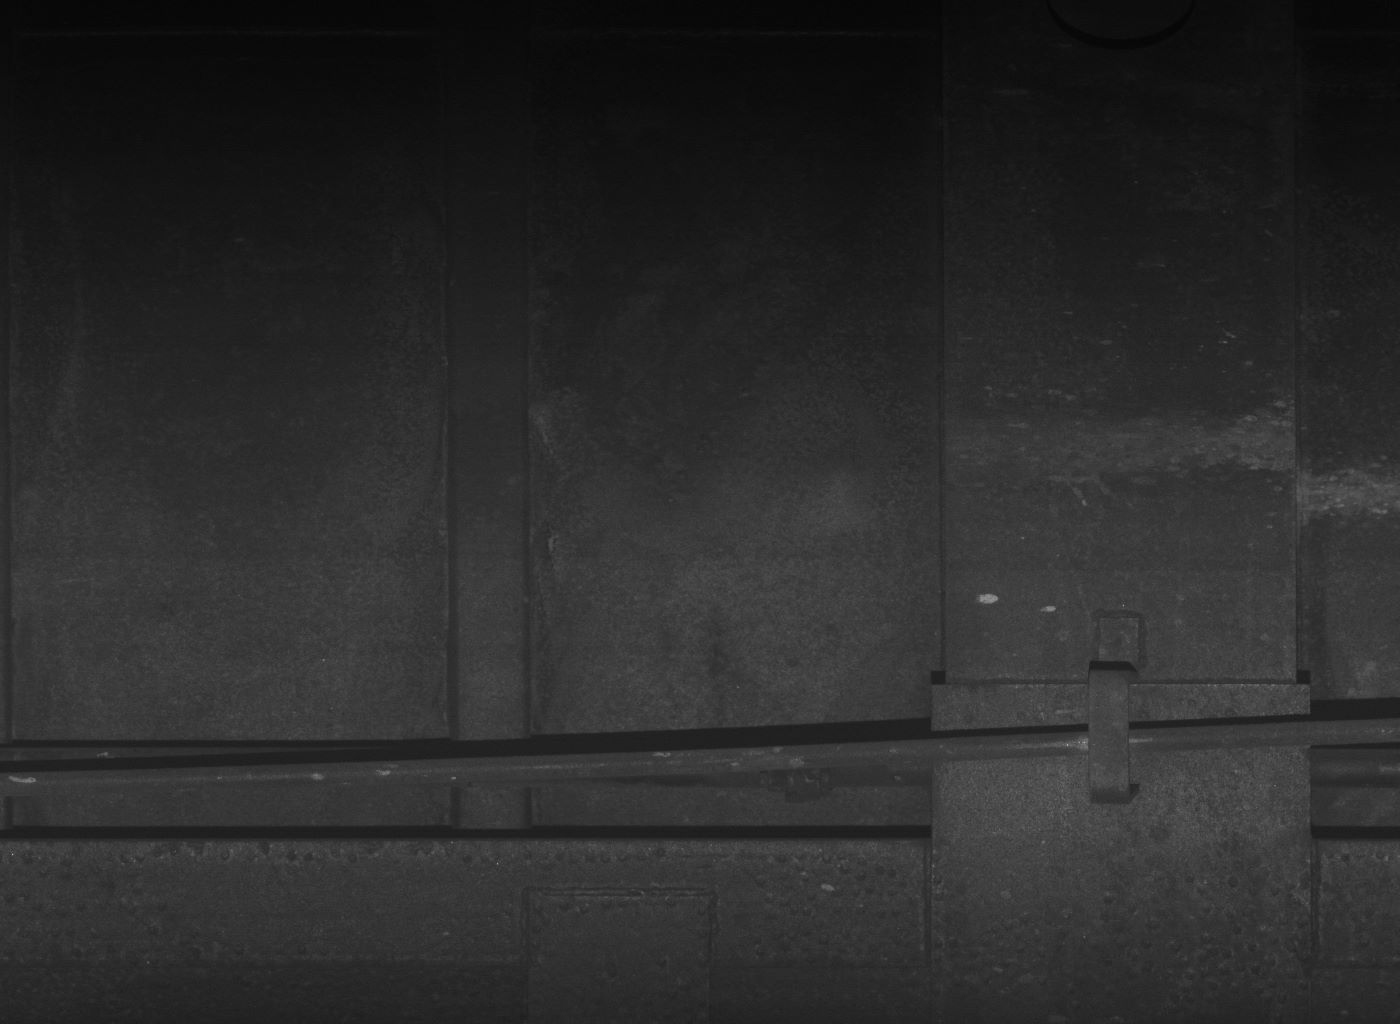normal: (1091, 669, 1141, 804)
